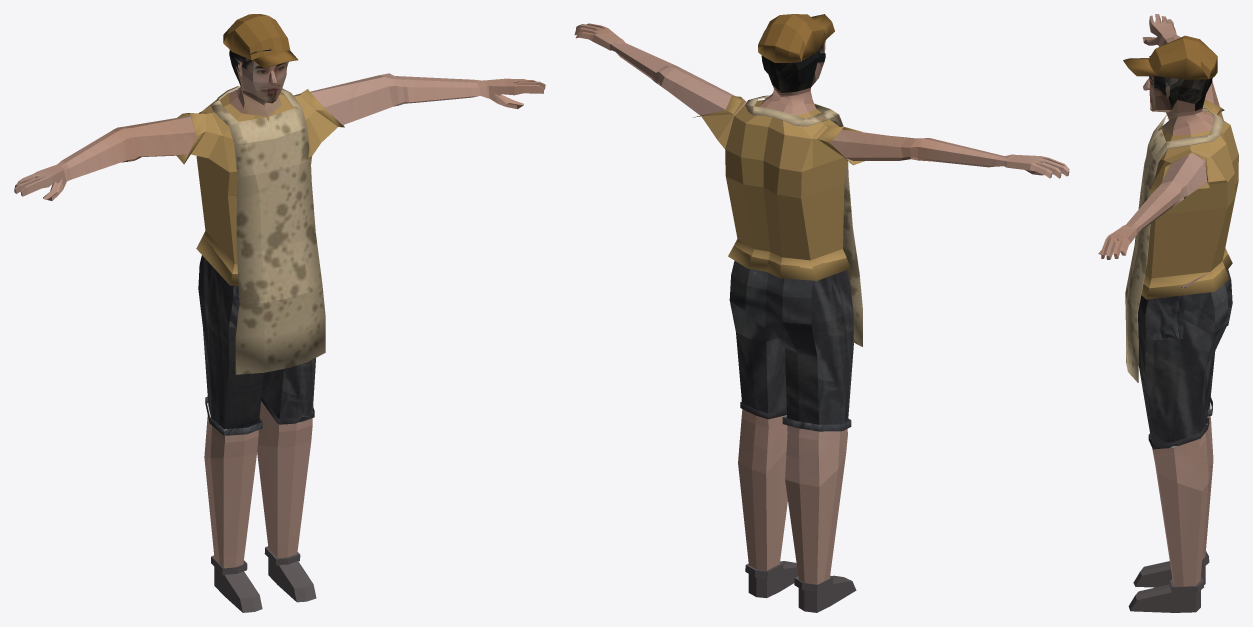
File: vendedor_FBX.fbx
3 renders of one model, left to right at view 1: azimuth 30°, elevation 25°; view 2: azimuth 150°, elevation 25°; view 3: azimuth 270°, elevation 25°, orthographic. The views are drawn at different scales.
Parts seen in each view (by area): view 1: Plane.001, Plane.002, Plane; view 2: Plane.001, Plane, Plane.002; view 3: Plane.001, Plane.002, Plane.
Part boxes in pixels (x1,y1,x2,y2): Plane.001: [14, 48, 545, 612]; Plane.002: [211, 86, 325, 374]; Plane: [223, 14, 298, 68]; Plane.001: [574, 23, 1069, 612]; Plane: [758, 14, 834, 62]; Plane.002: [745, 95, 862, 346]; Plane.001: [1098, 14, 1238, 612]; Plane.002: [1125, 108, 1223, 382]; Plane: [1123, 35, 1217, 79].
Size of the model in its own units: 831 by 896 by 205.
